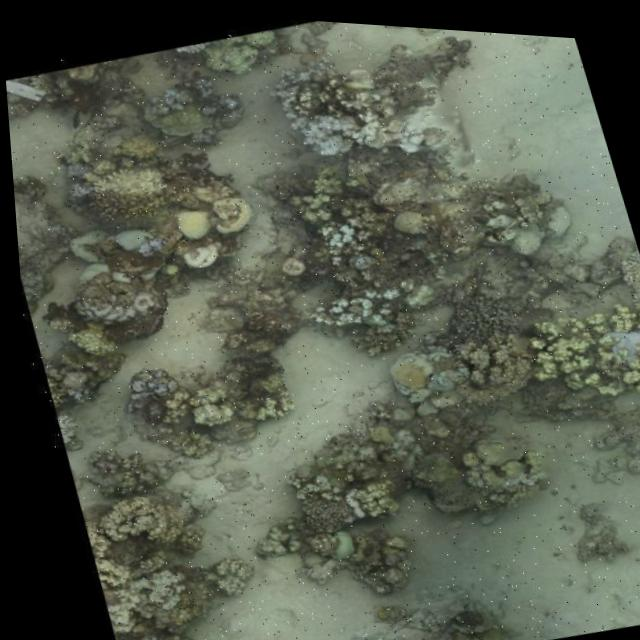Bleached Coral: (493, 275, 640, 397), (69, 471, 197, 557), (173, 17, 292, 101), (84, 552, 190, 637), (274, 90, 387, 158), (249, 42, 345, 117), (312, 266, 400, 333), (77, 150, 169, 207), (305, 203, 369, 264)
